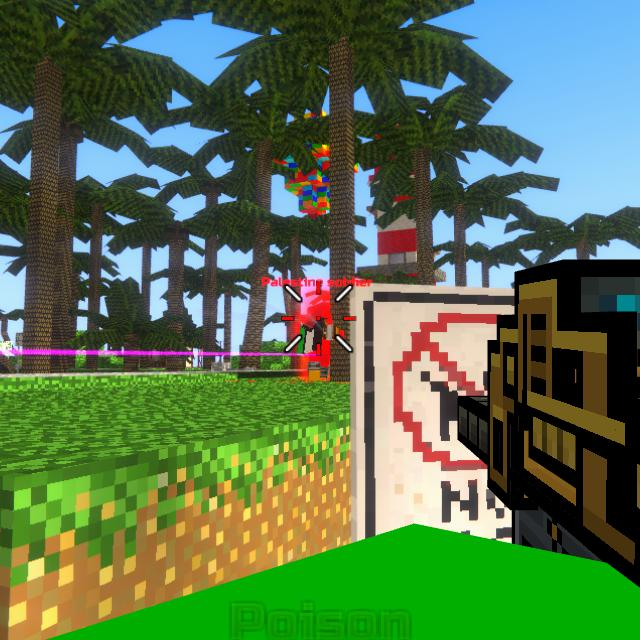Enemy: (297, 305, 330, 382)
